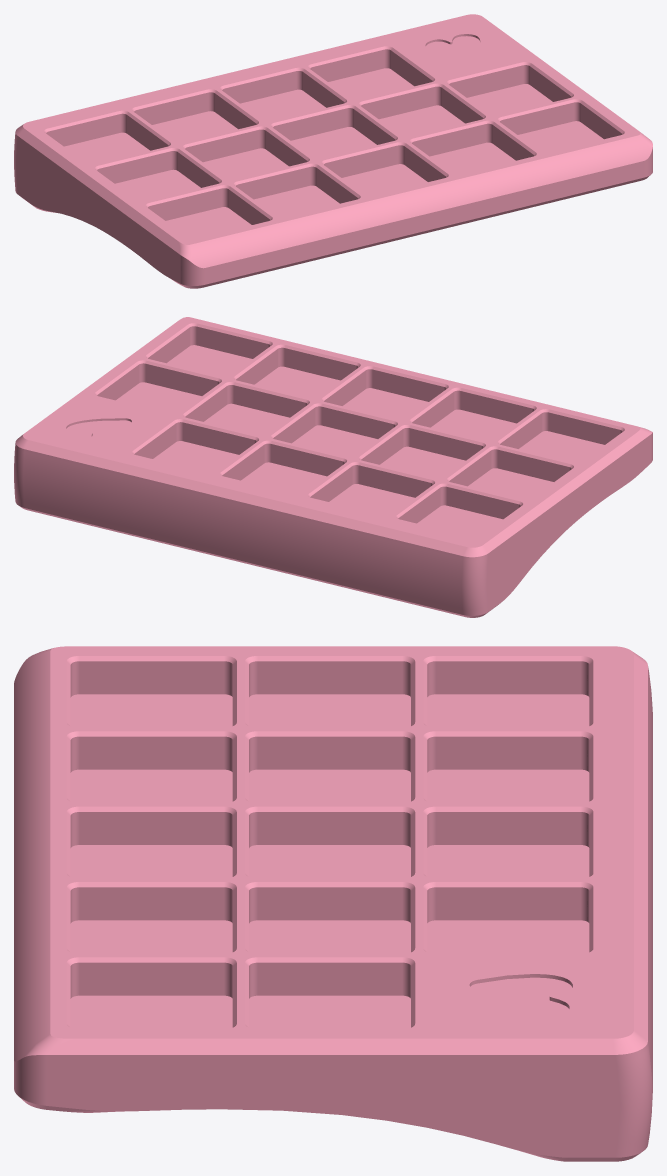
Rendered from hali nest1.1 v2.fbx.
3 views of the same model, one above another, from view 1: azimuth 30°, elevation 25°; view 2: azimuth 150°, elevation 25°; view 3: azimuth 270°, elevation 25° (orthographic). The views are drawn at different scales.
Parts seen in each view (by area): view 1: Nest; view 2: Nest; view 3: Nest.
Part boxes in pixels (x1=…): Nest: x1=14, y1=14, x2=652, y2=288; Nest: x1=14, y1=317, x2=652, y2=617; Nest: x1=14, y1=646, x2=652, y2=1161.
Size of the model in its own units: 118 by 16.5 by 78.84.
